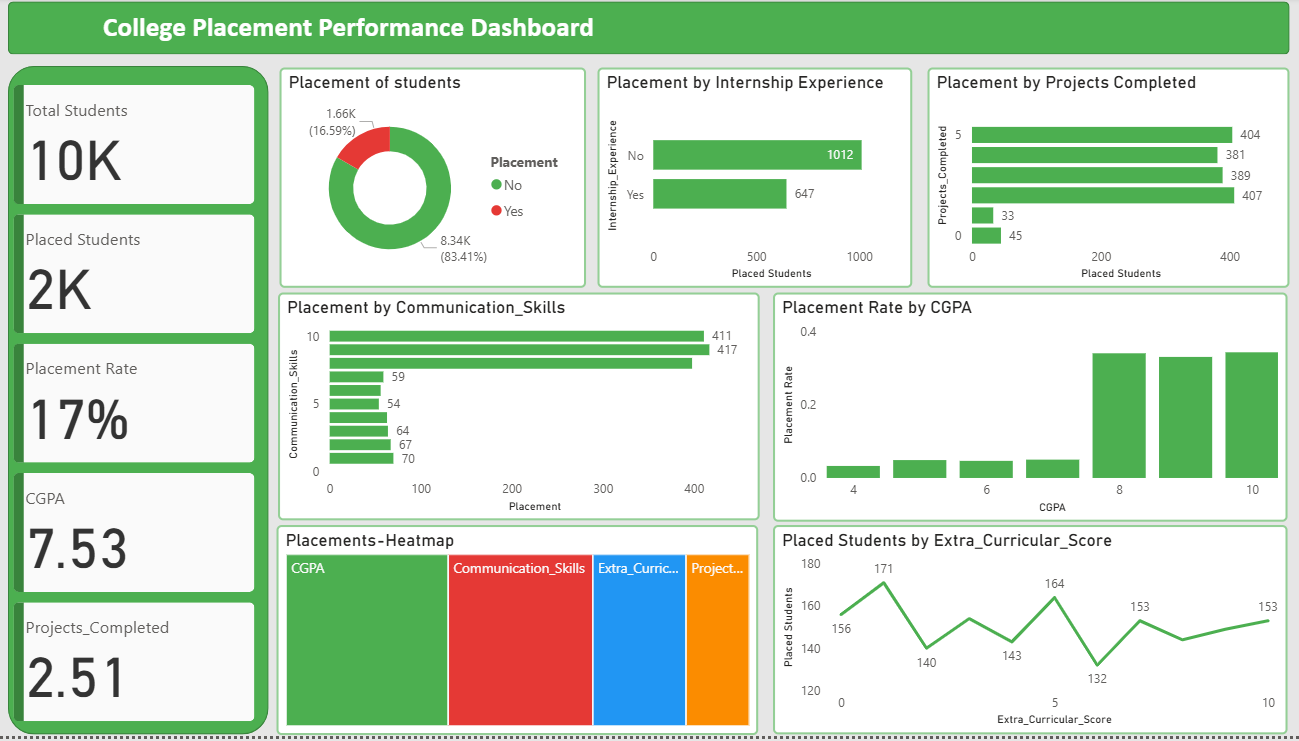

The page's visual inventory and layout, read from the dashboard file:
{"tool":"powerbi","page":{"name":"College performance","canvas":[1280,720],"ordinal":0},"visuals":[{"type":"shape","box":[11.2,67.4,253.8,651.2],"z":0},{"type":"cardVisual","fields":{"Data":["CountNonNull(CollegePlacement.College_ID)","CollegePlacement.Placed Students","CollegePlacement.Placement Rate","Avg(CollegePlacement.CGPA)","Avg(CollegePlacement.Projects_Completed)"]},"box":[11.9,80.1,245.5,630.9],"z":1000},{"type":"columnChart","fields":{"Category":["CollegePlacement.CGPA (bins)"],"Y":["CollegePlacement.Placement Rate"]},"box":[757.1,288.2,501.3,223.4],"z":2000},{"type":"clusteredBarChart","title":"Placement by Internship Experience","fields":{"Category":["CollegePlacement.Internship_Experience"],"Y":["CollegePlacement.Placed Students"]},"box":[586.6,68.2,306.9,214.9],"z":3000},{"type":"shape","box":[11.2,4.5,1248.6,51.6],"z":4000},{"type":"clusteredBarChart","fields":{"Category":["CollegePlacement.Communication_Skills"],"Y":["CollegePlacement.Placed Students"]},"box":[274.9,288.4,469.3,222.3],"z":5000},{"type":"donutChart","title":"Placement of students","fields":{"Category":["CollegePlacement.Placement"],"Y":["CountNonNull(CollegePlacement.Placement)"]},"box":[276.2,68.2,298.4,214.9],"z":6000},{"type":"barChart","title":"Placement  by Projects Completed","fields":{"Category":["CollegePlacement.Projects_Completed"],"Y":["CollegePlacement.Placed Students"]},"box":[907.2,68.2,353,214.9],"z":7000},{"type":"treemap","title":"Placements-Heatmap","fields":{"Values":["Avg(CollegePlacement.CGPA)","Avg(CollegePlacement.Communication_Skills)","Avg(CollegePlacement.Extra_Curricular_Score)","Avg(CollegePlacement.Projects_Completed)"]},"box":[274,514.2,469.3,204.4],"z":8000},{"type":"textbox","box":[20.5,7.3,646,48.2],"z":8001},{"type":"lineChart","fields":{"Category":["CollegePlacement.Extra_Curricular_Score"],"Y":["CollegePlacement.Placed Students"]},"box":[757,514,501,204],"z":8002}]}

Visuals, with their boxes in screenshot pixels (x1, y1, x2, y2), scaled from the page's 1280x720 canvas onto the 1299x741 screenshot:
shape: [left=11, top=69, right=269, bottom=740]
cardVisual - CountNonNull(CollegePlacement.College_ID) x CollegePlacement.Placed Students: [left=12, top=82, right=261, bottom=732]
columnChart - CollegePlacement.CGPA (bins) x CollegePlacement.Placement Rate: [left=768, top=297, right=1277, bottom=527]
"Placement by Internship Experience" clusteredBarChart: [left=595, top=70, right=907, bottom=291]
shape: [left=11, top=5, right=1279, bottom=58]
clusteredBarChart - CollegePlacement.Communication_Skills x CollegePlacement.Placed Students: [left=279, top=297, right=755, bottom=526]
"Placement of students" donutChart: [left=280, top=70, right=583, bottom=291]
"Placement  by Projects Completed" barChart: [left=921, top=70, right=1279, bottom=291]
"Placements-Heatmap" treemap: [left=278, top=529, right=754, bottom=740]
textbox: [left=21, top=8, right=676, bottom=57]
lineChart - CollegePlacement.Extra_Curricular_Score x CollegePlacement.Placed Students: [left=768, top=529, right=1277, bottom=739]
